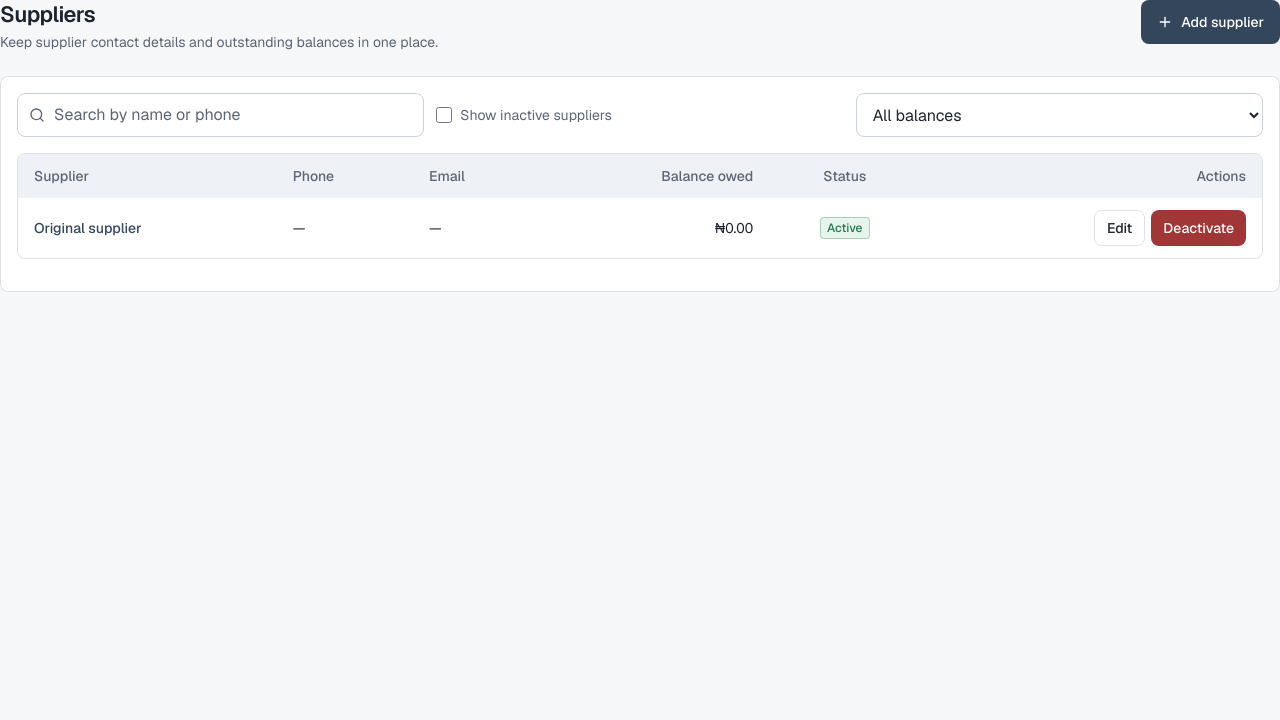
Test: shows and recovers from a failed supplier true save
This screenshot has width=1280, height=720.
Click the button "Edit" at (1120, 228), box [1094,210,1145,246]
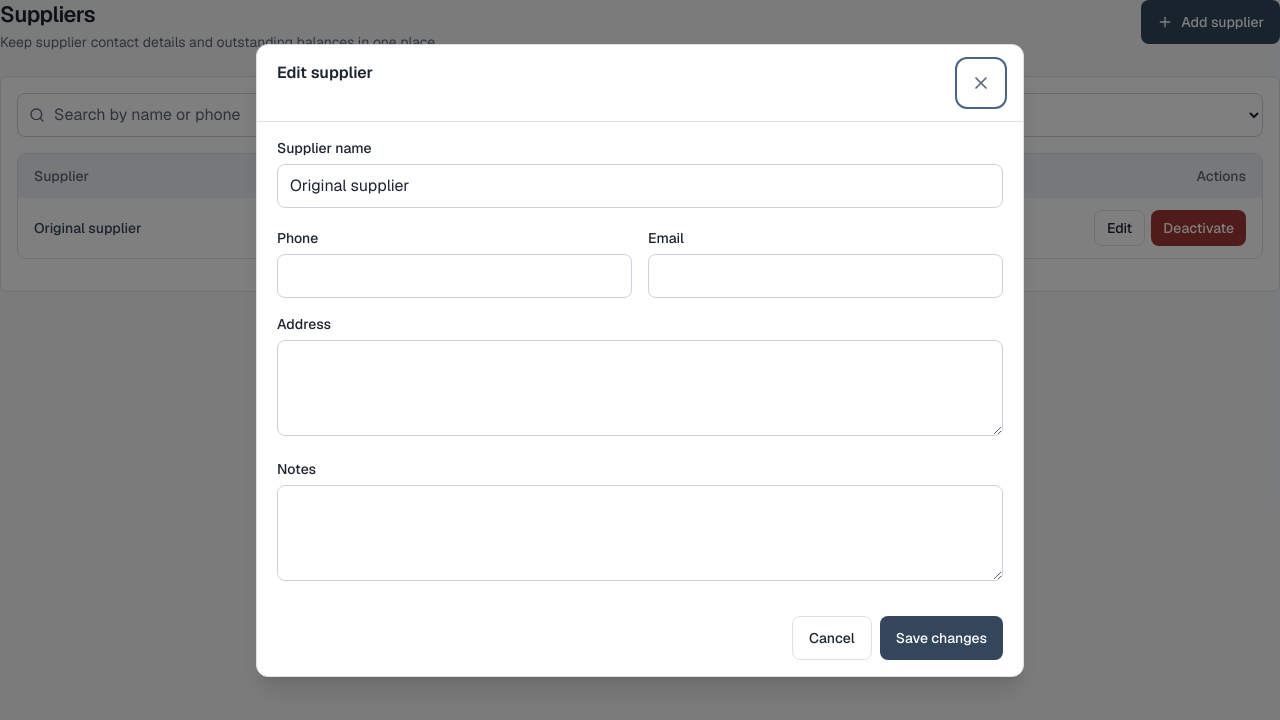
Result: the dialog is shown at [256,44,1024,676]
Replace the text in the field labelled "Supplier name" with "First name" at (640, 186), box [277,164,1003,208]
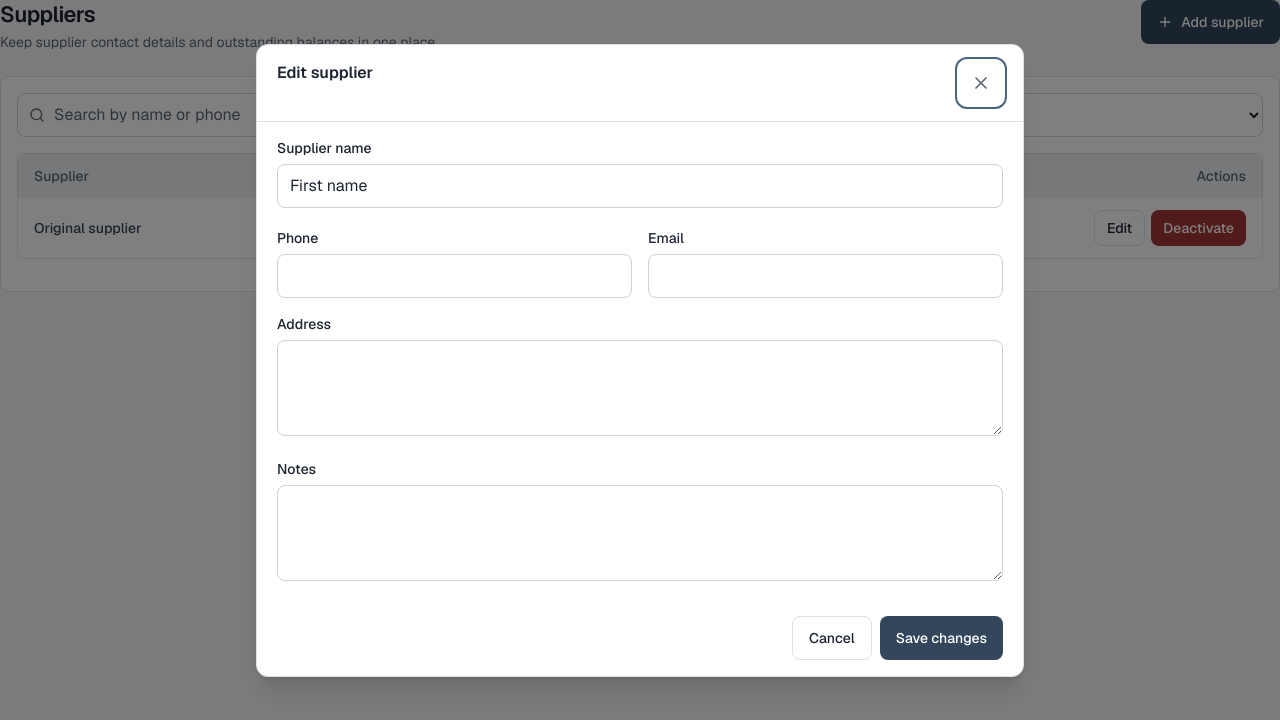
Submit the form, box [277,138,1003,660]
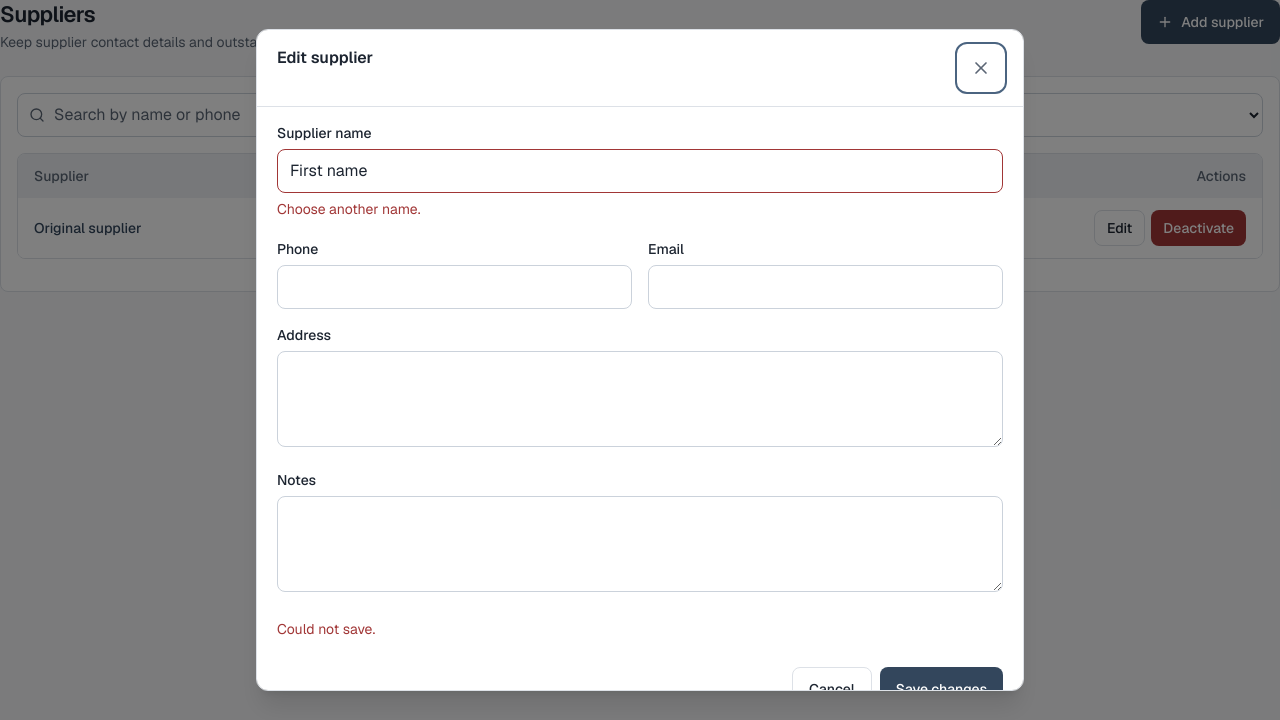
Result: the dialog is shown at [256,29,1024,691]
Result: the text "Choose another name." is shown at [277,200,420,218]
Replace the text in the field labelled "Supplier name" with "Corrected name" at (640, 171), box [277,149,1003,193]
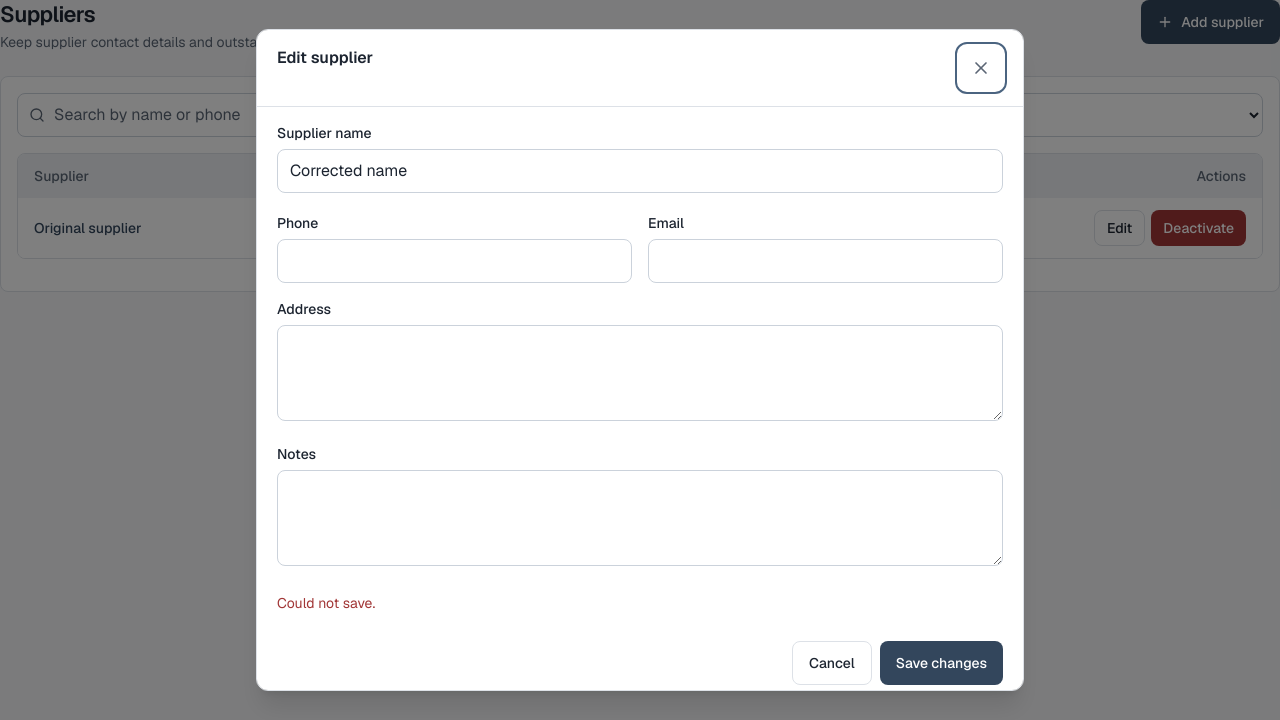
Submit the form, box [277,123,1003,685]
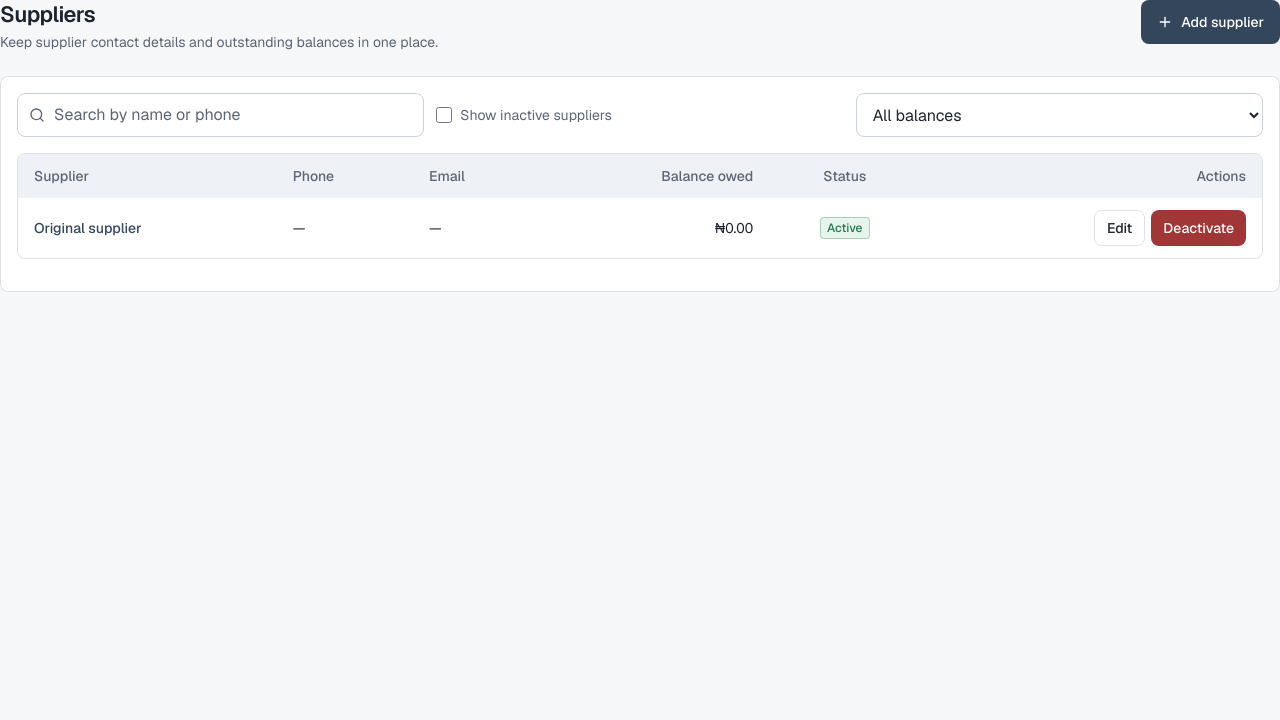
Result: the dialog is gone
